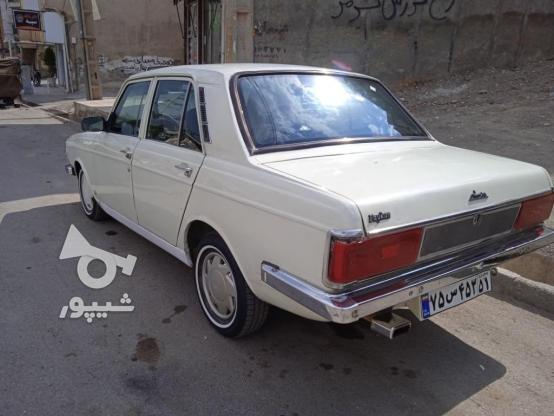car: (419, 268, 492, 320)
